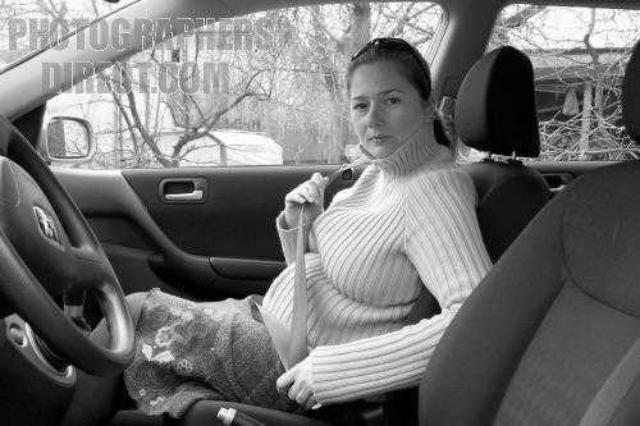SafeDriving: (348, 96, 372, 114), (380, 90, 404, 108)
Seatbelt: (250, 154, 372, 376)
